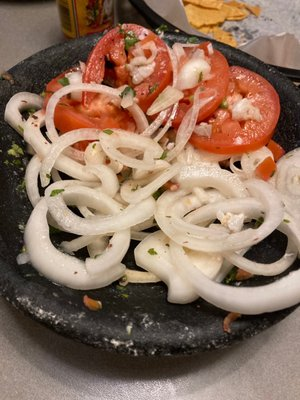pizza: (56, 0, 118, 40)
